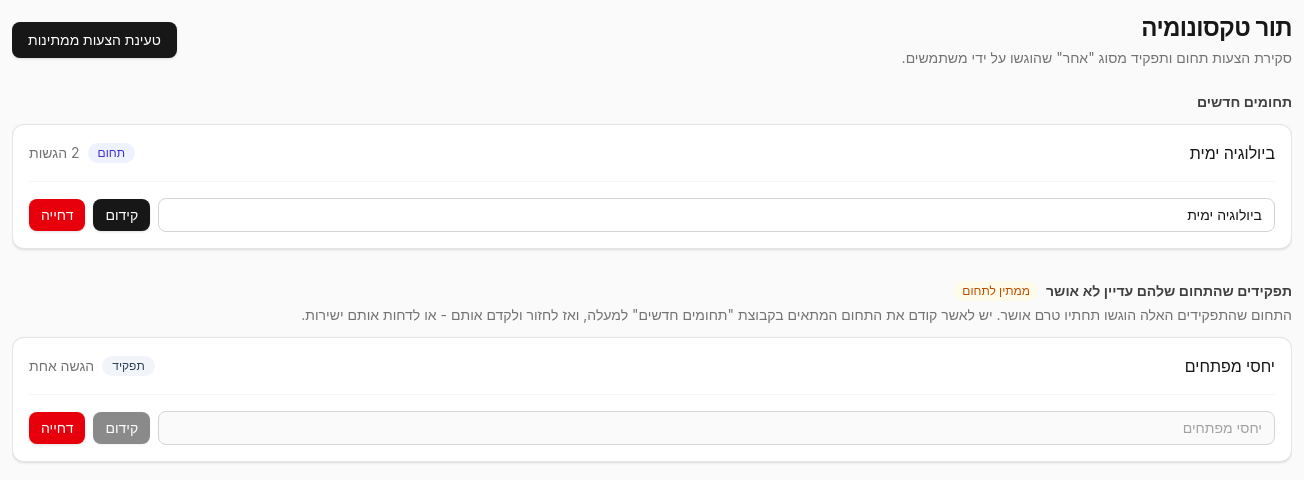
Test: TaxonomyQueueView - unhappy path / edge cases › reloads the full queue after a decision instead of just filtering the local row (field approval can unblock roles)
Click the button "קידום" below "2 הגשות" at (122, 215), box [93, 199, 150, 231]
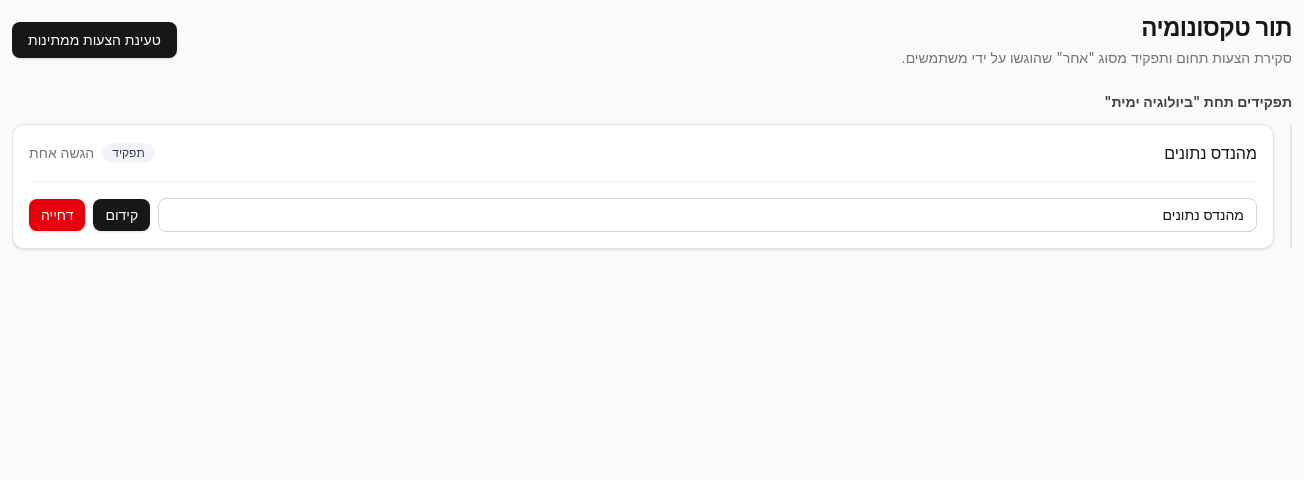
Now the text "תפקידים תחת \"ביולוגיה ימית\"" is shown, box [1104, 93, 1292, 110]
